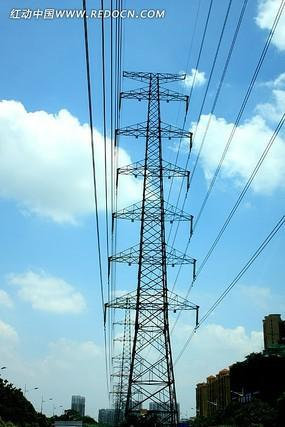power_tower: (105, 64, 198, 427)
